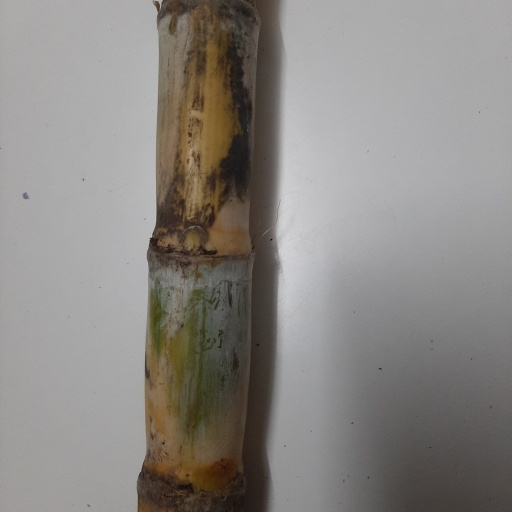Bud: (178, 225, 208, 253)
